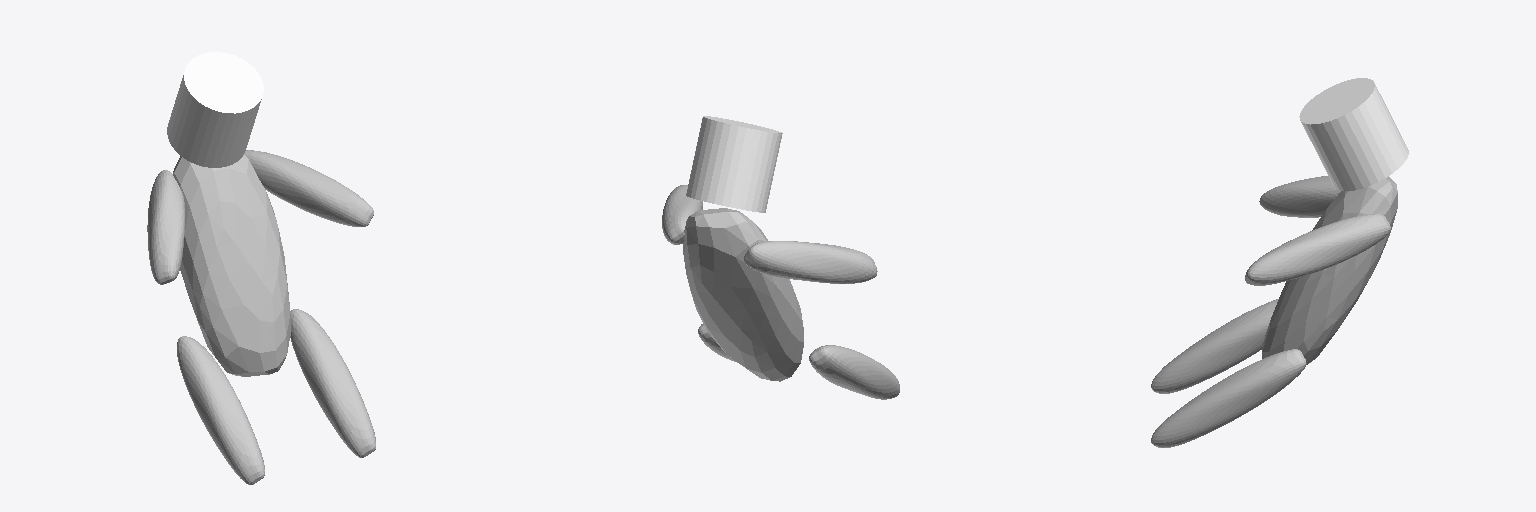
Rendered from blowenemy.obj.
The picture shows the model from 3 angles: view 1: azimuth 30°, elevation 25°; view 2: azimuth 150°, elevation 25°; view 3: azimuth 270°, elevation 25°; orthographic projection.
Visible parts, largest first — view 1: 立方体.006, 円柱_円柱.001, 立方体.003_立方体.011, 立方体.001_立方体.009, 立方体.007, 立方体.008; view 2: 立方体.006, 円柱_円柱.001, 立方体.008, 立方体.003_立方体.011, 立方体.007; view 3: 立方体.006, 円柱_円柱.001, 立方体.001_立方体.009, 立方体.007, 立方体.003_立方体.011, 立方体.008.
Part boxes in pixels (bbox=[...]): 立方体.006: bbox=[173, 153, 290, 376]; 円柱_円柱.001: bbox=[167, 52, 263, 167]; 立方体.003_立方体.011: bbox=[177, 336, 264, 484]; 立方体.001_立方体.009: bbox=[290, 309, 375, 457]; 立方体.007: bbox=[245, 150, 373, 226]; 立方体.008: bbox=[147, 170, 184, 284]; 立方体.006: bbox=[683, 208, 803, 381]; 円柱_円柱.001: bbox=[686, 116, 782, 212]; 立方体.008: bbox=[744, 241, 877, 283]; 立方体.003_立方体.011: bbox=[809, 345, 899, 399]; 立方体.007: bbox=[662, 185, 702, 244]; 立方体.006: bbox=[1262, 176, 1397, 364]; 円柱_円柱.001: bbox=[1299, 78, 1408, 191]; 立方体.001_立方体.009: bbox=[1151, 349, 1306, 447]; 立方体.007: bbox=[1245, 214, 1390, 285]; 立方体.003_立方体.011: bbox=[1151, 299, 1278, 393]; 立方体.008: bbox=[1259, 176, 1340, 217].
Bounding box in the file's own units: 1.72 × 2.66 × 1.85.